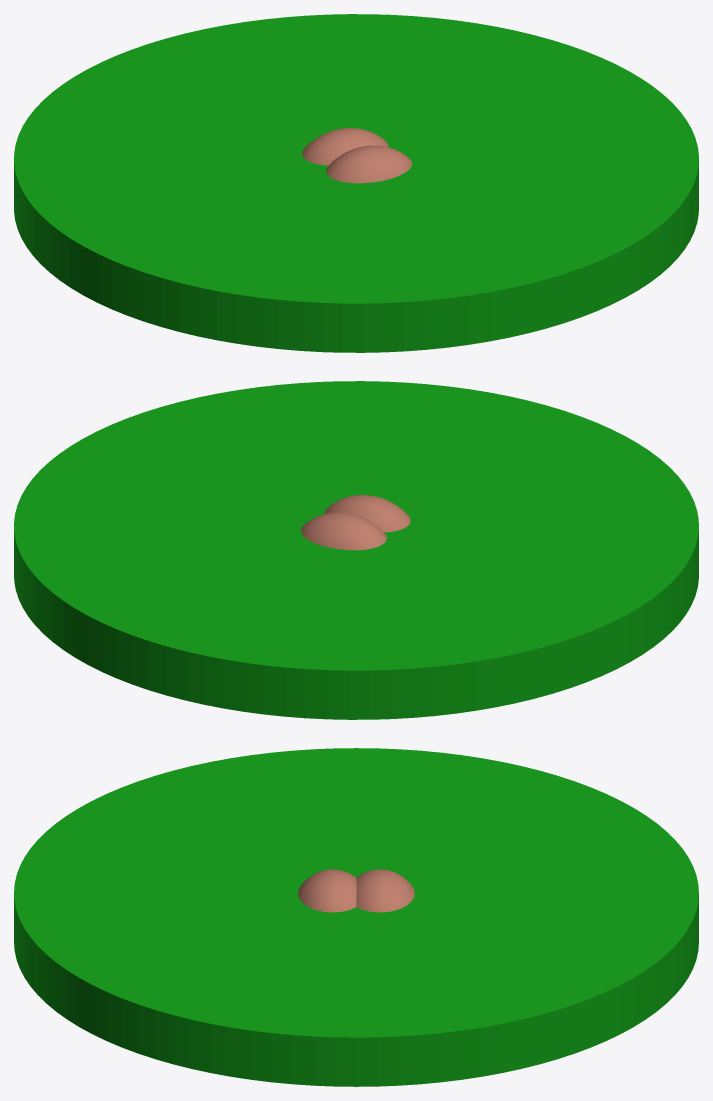
File: ass.glb
The picture shows the model from 3 angles, top to bottom: view 1: azimuth 30°, elevation 25°; view 2: azimuth 150°, elevation 25°; view 3: azimuth 270°, elevation 25°; orthographic projection.
Visible parts, largest first — view 1: Cylinder.001, Ass; view 2: Cylinder.001, Ass; view 3: Cylinder.001, Ass.
Boxes of the visible parts, x1=… form: Cylinder.001: x1=14, y1=14, x2=698, y2=352; Ass: x1=302, y1=128, x2=411, y2=183; Cylinder.001: x1=14, y1=381, x2=698, y2=719; Ass: x1=301, y1=495, x2=410, y2=550; Cylinder.001: x1=14, y1=748, x2=698, y2=1086; Ass: x1=298, y1=869, x2=414, y2=912.
Bounding box in the file's own units: 50.44 × 5.45 × 50.44.
